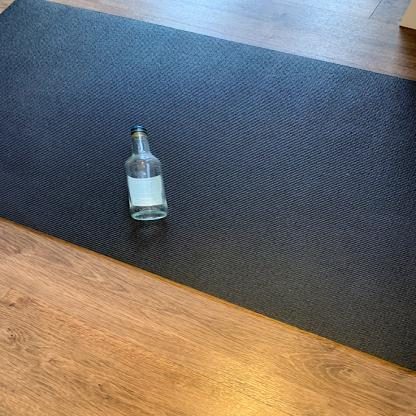trash: (124, 124, 172, 224)
